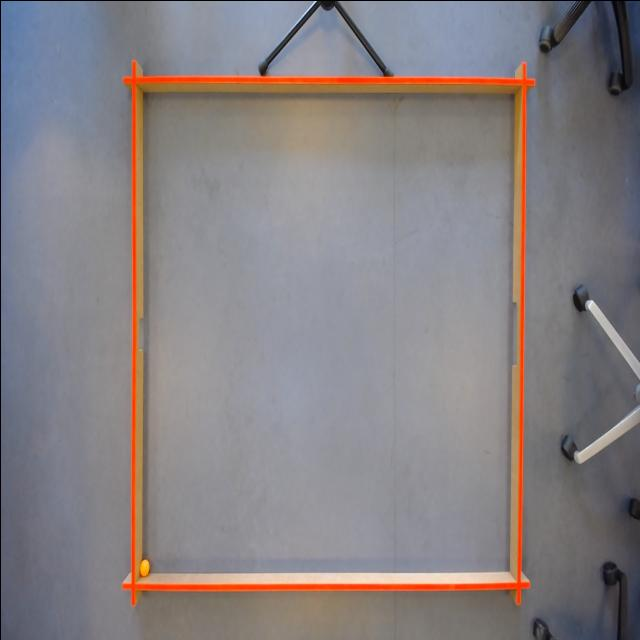orange_ball: (138, 556, 149, 578)
